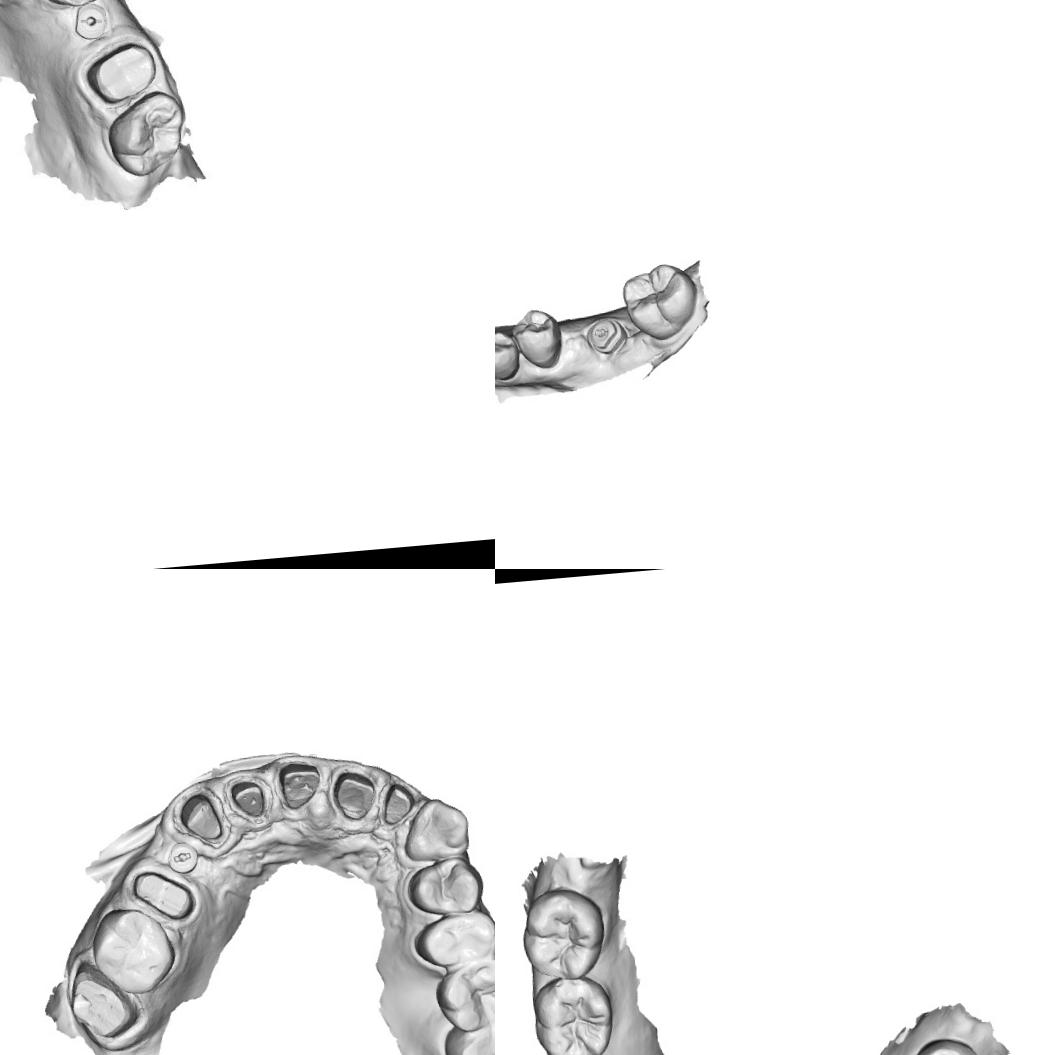canine: (398, 793, 473, 866)
crown: (63, 953, 141, 1043), (127, 865, 199, 926), (90, 41, 152, 102), (328, 758, 380, 827), (221, 766, 277, 828), (173, 784, 228, 845), (271, 754, 324, 816), (372, 771, 425, 832)
implant_minus: (586, 314, 628, 356), (67, 1, 109, 39), (164, 837, 203, 877)
molar: (86, 901, 180, 998), (516, 886, 608, 984), (102, 88, 190, 182), (523, 971, 617, 1055), (619, 258, 701, 343), (430, 953, 495, 1035), (439, 1008, 495, 1055), (891, 1033, 990, 1055)
premolar: (408, 907, 495, 971), (403, 852, 485, 919), (508, 305, 564, 371), (495, 327, 520, 382)
